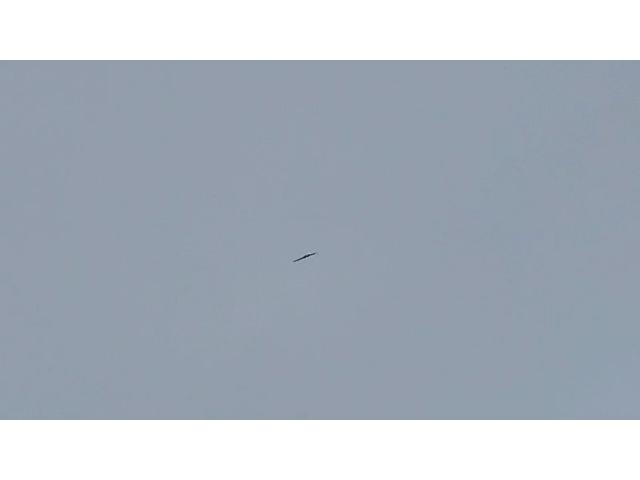Anti-Drone: (292, 252, 318, 262)
